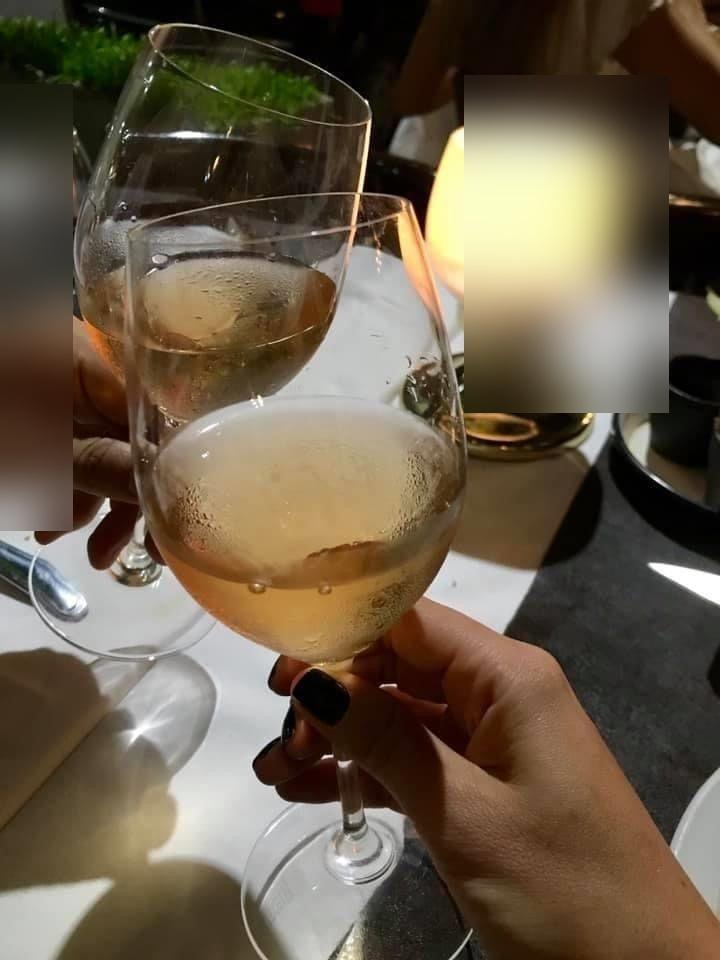glass-wine: (121, 176, 486, 960), (22, 18, 393, 658)
